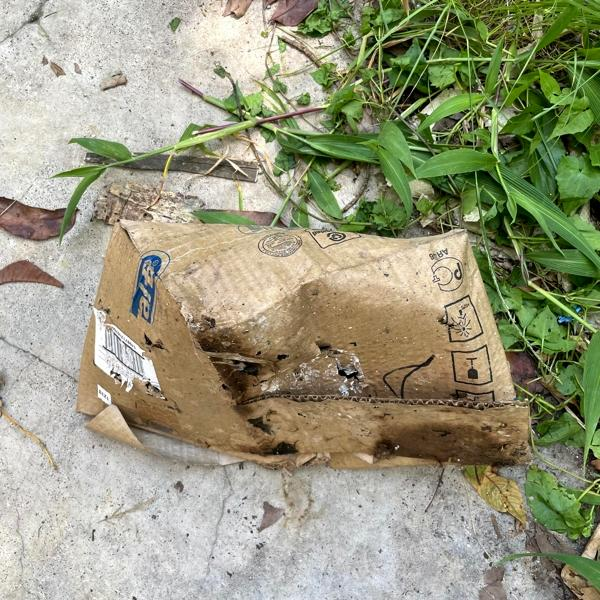Organik: (68, 212, 537, 485)
